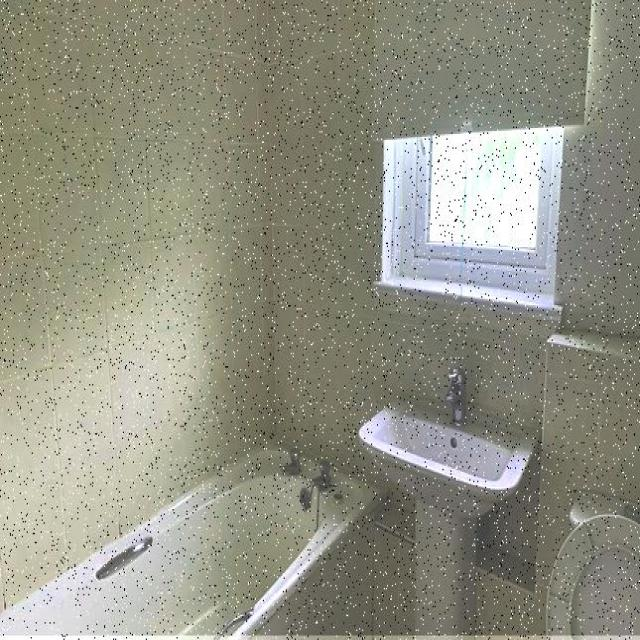Wall: (0, 0, 640, 636), (375, 512, 413, 636)
